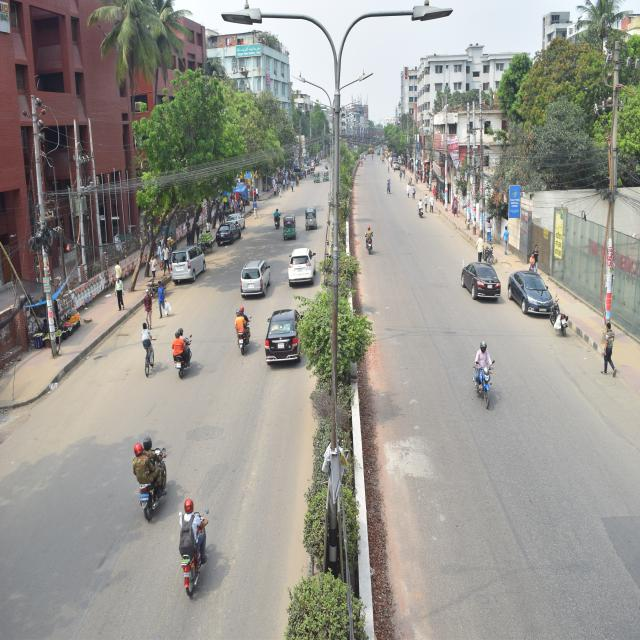car: (510, 268, 558, 327), (460, 254, 497, 309), (288, 242, 320, 290), (216, 220, 246, 247), (230, 205, 250, 230)
microbus: (168, 242, 211, 287), (241, 252, 269, 304)
motorbike: (172, 495, 214, 599), (126, 445, 170, 535), (170, 332, 199, 383), (230, 314, 258, 365), (474, 354, 498, 411), (546, 295, 572, 338), (270, 207, 280, 234), (364, 231, 374, 255), (415, 201, 424, 217)
